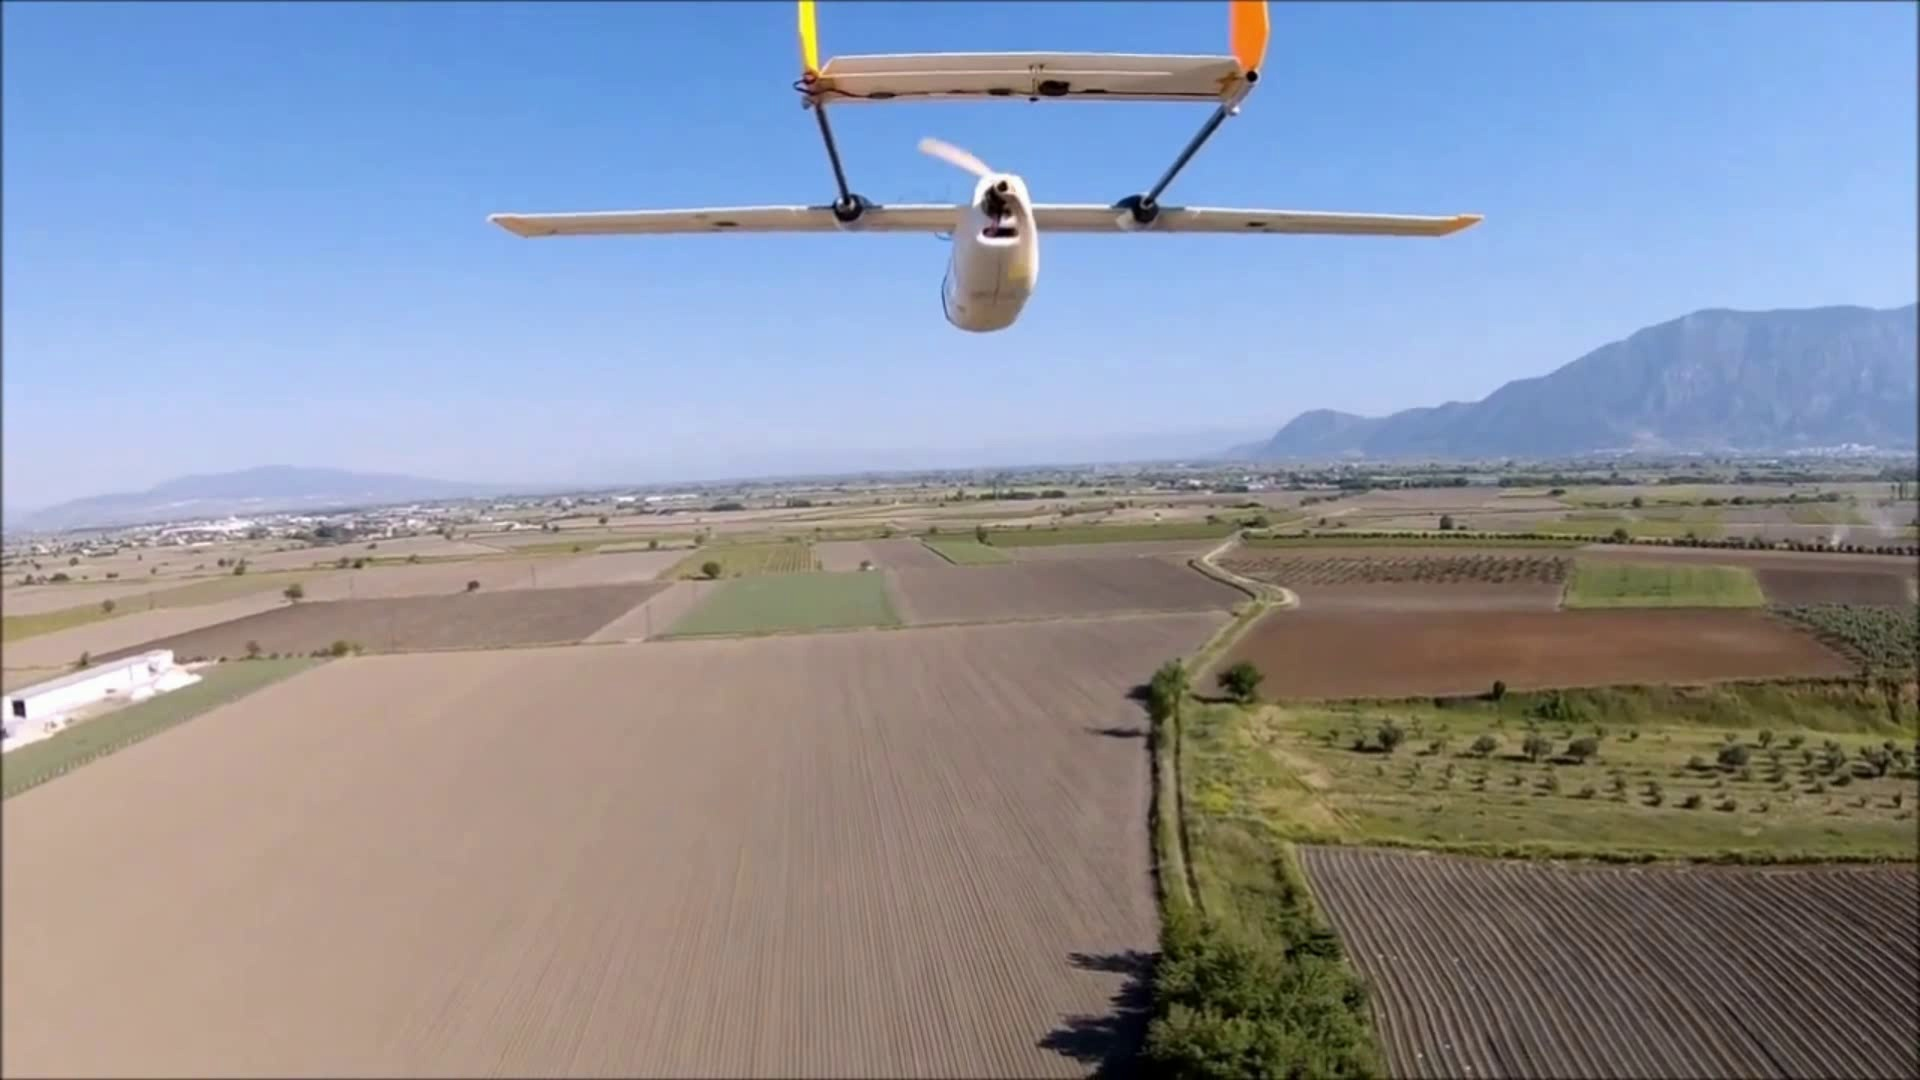airplane: (487, 3, 1481, 334)
